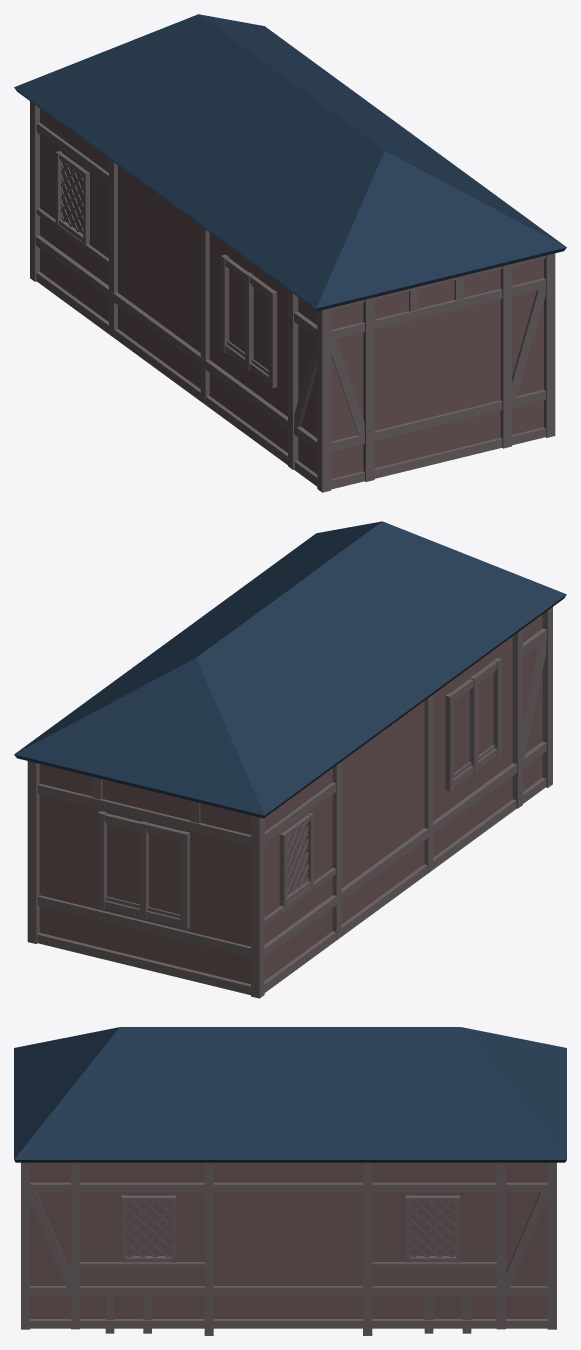
The model's file is SM_house_01.fbx.
3 views of the same model, one above another, from view 1: azimuth 30°, elevation 25°; view 2: azimuth 150°, elevation 25°; view 3: azimuth 270°, elevation 25° (orthographic). The views are drawn at different scales.
Parts seen in each view (by area): view 1: Box012.005, Box012.006, Cube.108, Cube.129, Cube.128, Cube.124, Cube.111, Cube.112, Cube.127, Cube.109, Cube.132, Cube.120 (+6 smaller); view 2: Box012.005, Box012.006, Cube.120, Cube.129, Cube.128, Cube.124, Cube.135, Cube.127, Cube.109, Cube.132, Cube.108, Cube.089 (+9 smaller); view 3: Box012.005, Box012.006, Cube.114, Cube.119, Cube.117, Cube.122, Cube.121, Cube.116, Cube.108, Cube.120, Cube.115, Cube.118 (+8 smaller).
Part boxes in pixels (x1,y1,x2,y2): Box012.005: [14, 14, 566, 311]; Box012.006: [40, 108, 543, 478]; Cube.108: [317, 253, 555, 492]; Cube.129: [35, 235, 317, 450]; Cube.128: [36, 271, 317, 486]; Cube.124: [109, 159, 209, 404]; Cube.111: [331, 288, 545, 436]; Cube.112: [331, 427, 545, 489]; Cube.127: [331, 389, 545, 451]; Cube.109: [331, 278, 545, 340]; Cube.132: [288, 290, 298, 469]; Cube.120: [30, 101, 39, 281]; Box012.005: [14, 521, 566, 818]; Box012.006: [39, 614, 542, 984]; Cube.120: [27, 761, 264, 998]; Cube.129: [264, 741, 546, 957]; Cube.128: [264, 777, 546, 992]; Cube.124: [332, 694, 433, 940]; Cube.135: [37, 933, 250, 995]; Cube.127: [38, 895, 250, 956]; Cube.109: [38, 783, 250, 845]; Cube.132: [512, 629, 522, 808]; Cube.108: [542, 607, 552, 787]; Cube.089: [180, 831, 189, 929]; Box012.005: [14, 1027, 566, 1162]; Box012.006: [30, 1164, 547, 1318]; Cube.114: [30, 1182, 547, 1192]; Cube.119: [30, 1286, 547, 1295]; Cube.117: [30, 1319, 547, 1328]; Cube.122: [204, 1162, 372, 1335]; Cube.121: [71, 1162, 505, 1329]; Cube.116: [30, 1192, 547, 1287]; Cube.108: [21, 1162, 30, 1329]; Cube.120: [547, 1162, 556, 1329]; Cube.115: [30, 1162, 547, 1164]; Cube.118: [105, 1295, 471, 1333].
Size of the model in its own units: 486 by 521 by 1014.
